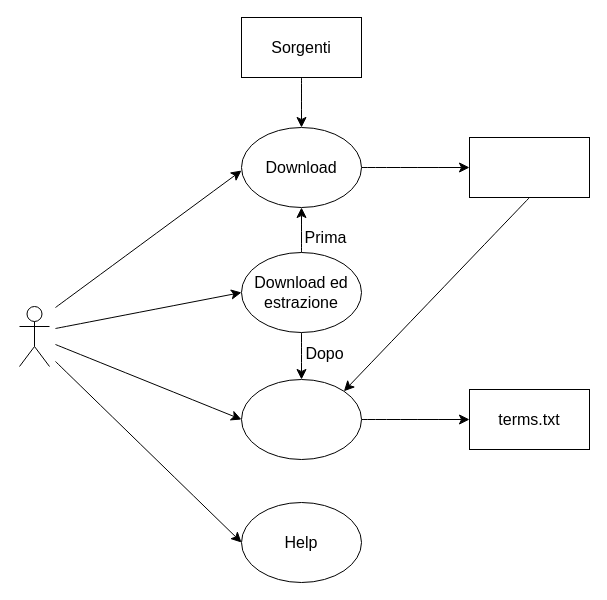
Some shapes in this 607 by 600 pixel diagram are drawn without their labels. The centre of each missing label's shape, as x and y in pixels:
"articles.json" belongs at point (529, 167).
"Estrazione" belongs at point (301, 419).
"User" belongs at point (34, 336).
